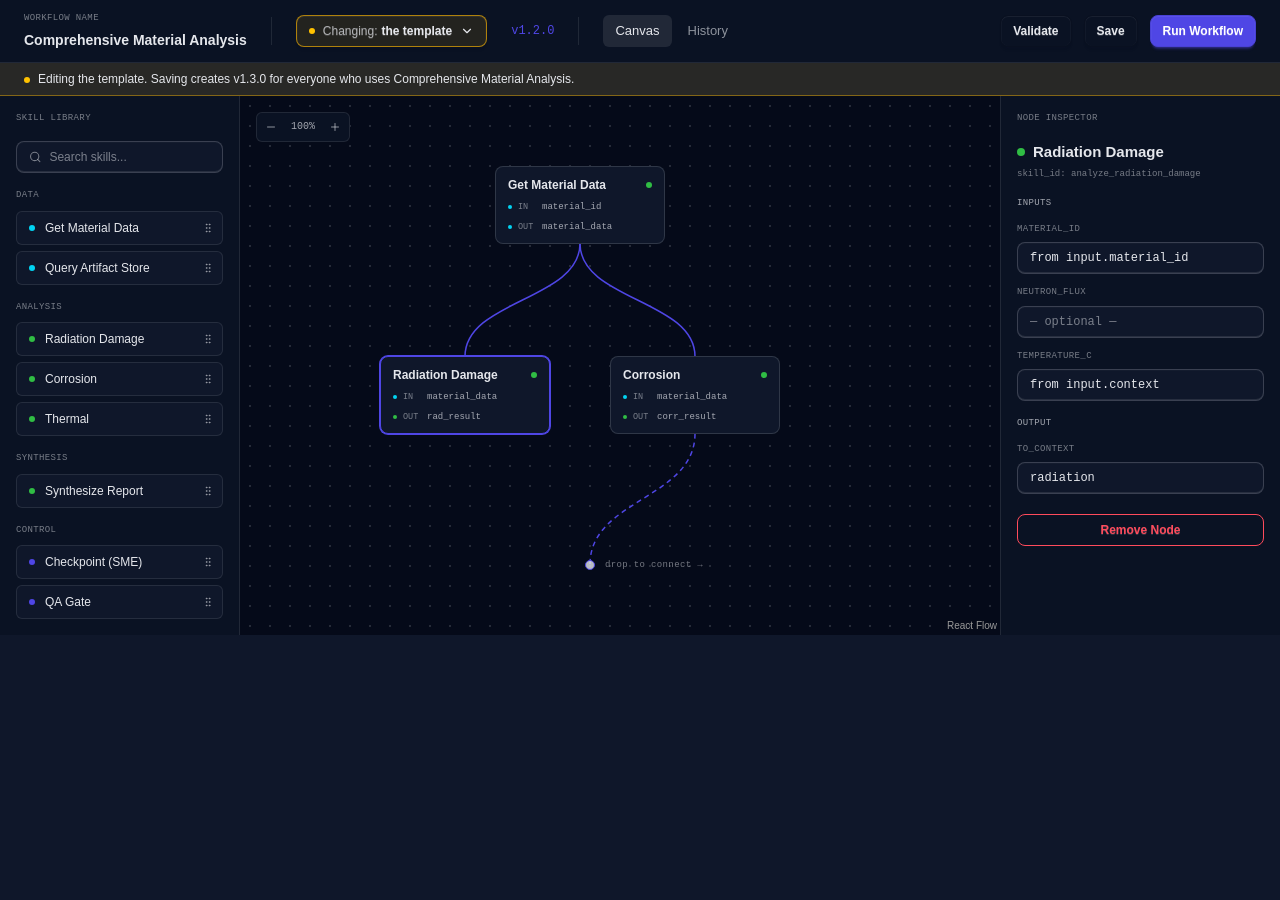
Test: the History tab shows the version list and hides the commit buttons and the mode strip
Click the tab "History". click: (708, 31)
box: [676,15,740,46]
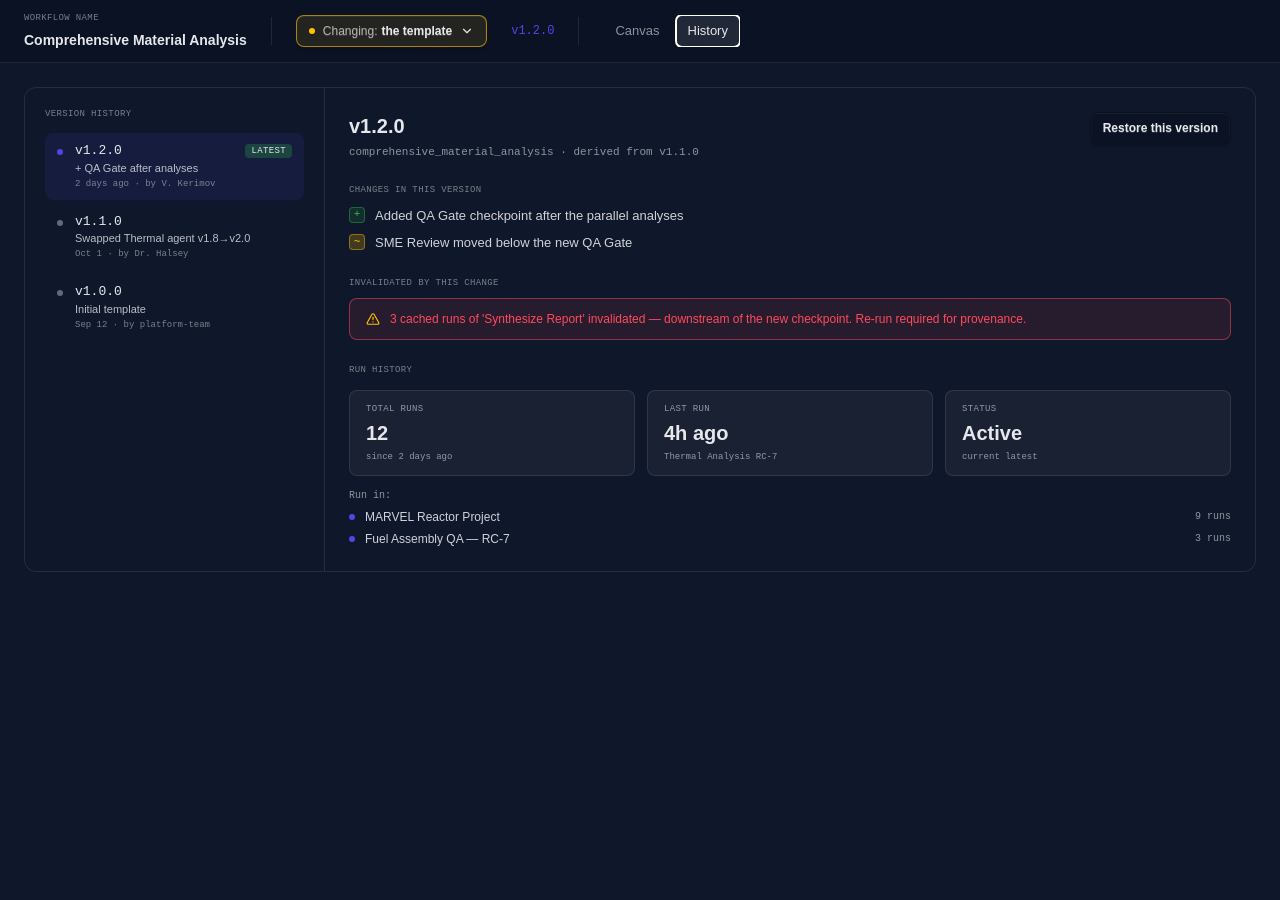
Now the 1st heading "v1.2.0" is shown, box [349,114,405,136]
Now the text "Saving creates v1.3.0" is gone
Click the tab "Canvas". click: (637, 31)
box: [603,15,672,46]
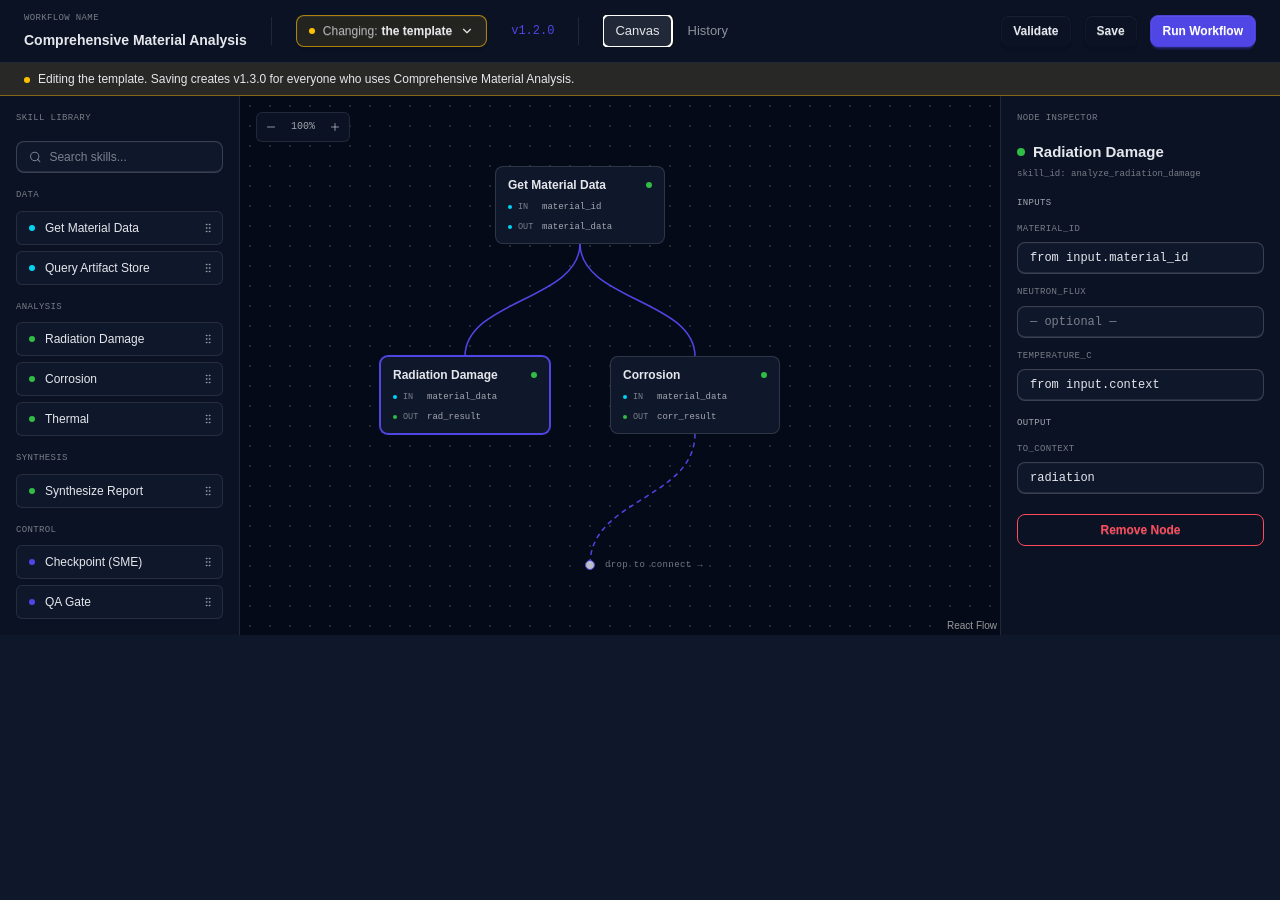
Now the element named "Workflow actions" is shown, box [1000,15,1256,47]
